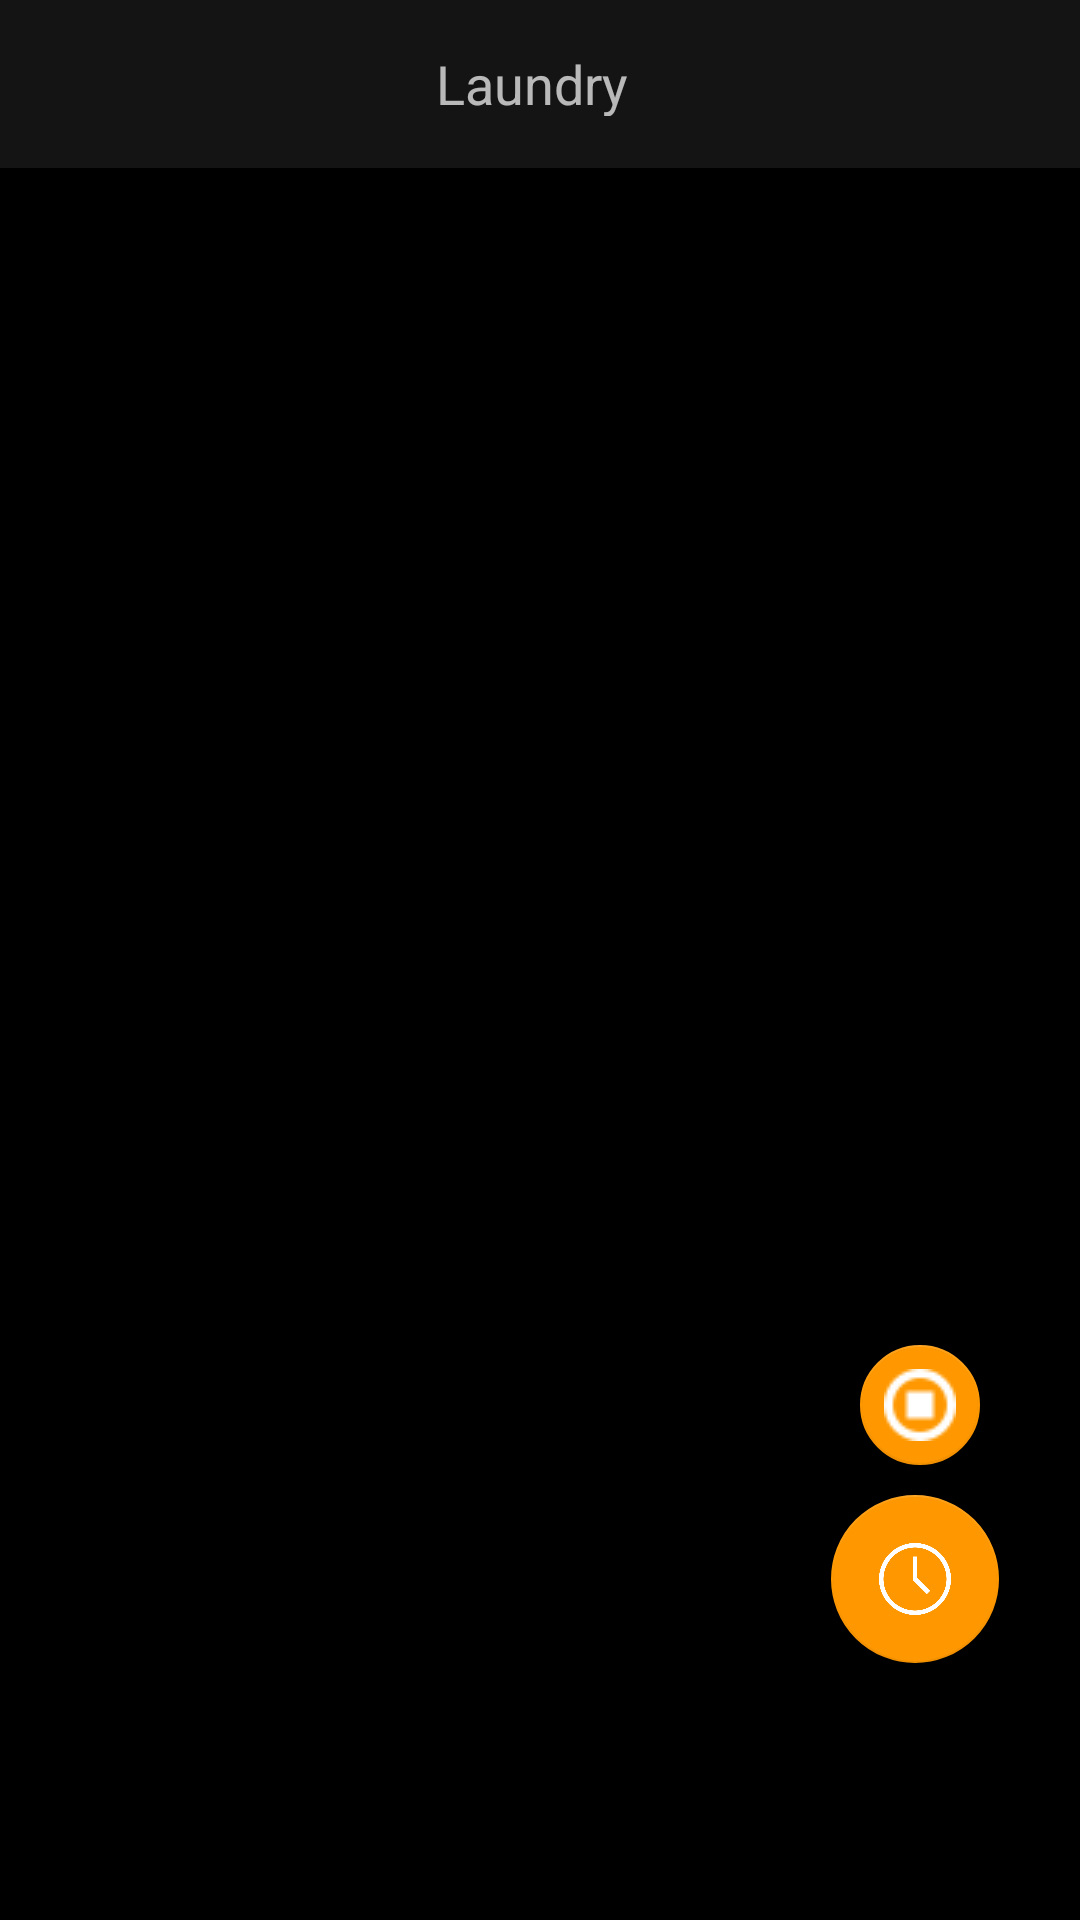

Icon click points for this 1080px x 1920px phone screenshot, format [x,y]:
clock: [915,1579]
stop: [920,1405]
